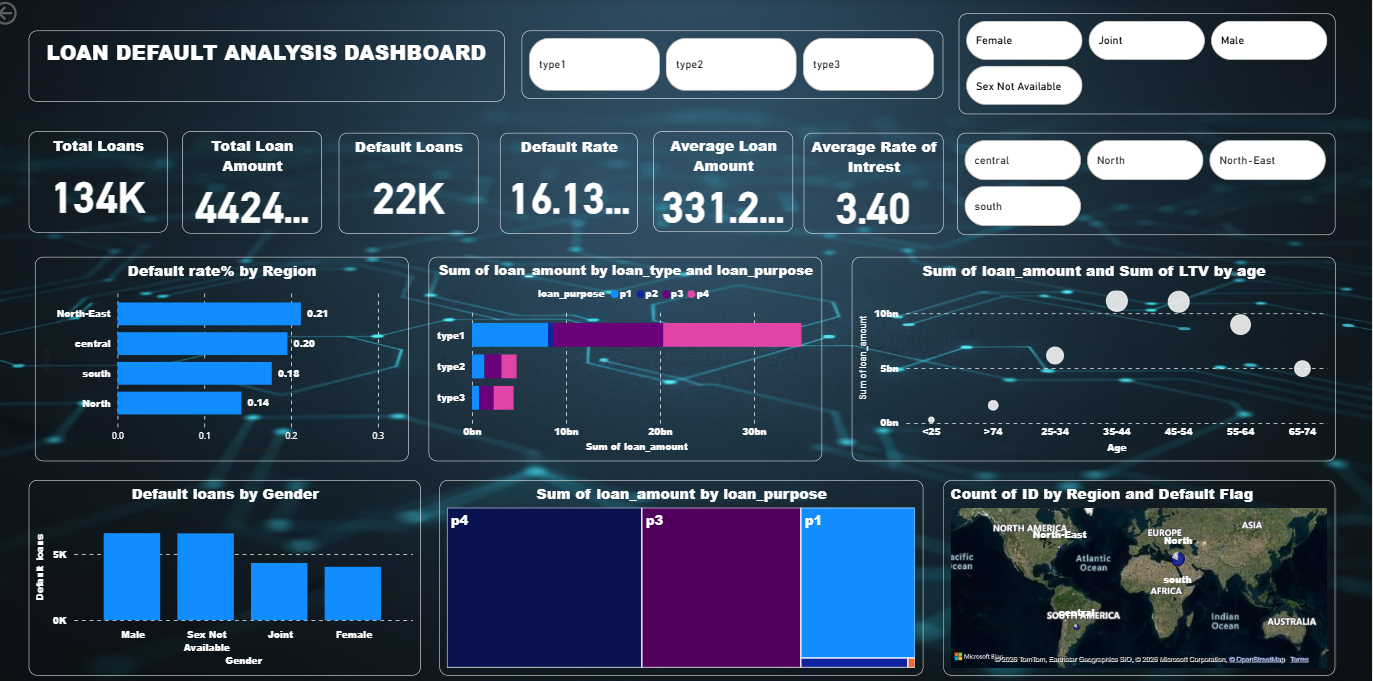

What the dashboard file says about the page in this screenshot:
{"tool":"powerbi","page":{"name":"Page 1","canvas":[1807,902],"ordinal":0},"visuals":[{"type":"card","title":"Total Loans ","fields":{"Values":["Loan_Default.Total loans"]},"box":[50.7,175,181,132],"z":0},{"type":"card","title":"Total Loan Amount","fields":{"Values":["Loan_Default.Total Loan amount"]},"box":[251.2,174.2,182.3,133.7],"z":1000},{"type":"card","title":"Default Loans","fields":{"Values":["Loan_Default.Default loans"]},"box":[455.7,176.2,182.3,131.7],"z":2000},{"type":"card","title":"Default Rate","fields":{"Values":["Loan_Default.Default rate %"]},"box":[666.4,176.2,180.3,131.7],"z":3000},{"type":"card","title":"Average Loan Amount","fields":{"Values":["Loan_Default.Average loan amount"]},"box":[866.9,174.2,182.3,131.7],"z":4000},{"type":"card","title":"Average Rate of Intrest","fields":{"Values":["Avg(Loan_Default.rate_of_interest)"]},"box":[1063.4,176.2,182.3,131.7],"z":5000},{"type":"actionButton","box":[0,0,100,40],"z":6000},{"type":"barChart","fields":{"Category":["Loan_Default.loan_type"],"Y":["Sum(Loan_Default.loan_amount)"],"Series":["Loan_Default.loan_purpose"]},"box":[573.2,338.3,514.5,267.4],"z":7000},{"type":"treemap","fields":{"Group":["Loan_Default.loan_purpose"],"Values":["Sum(Loan_Default.loan_amount)"]},"box":[587.4,629.9,632,255.2],"z":8000},{"type":"clusteredColumnChart","fields":{"Y":["Loan_Default.Default loans"],"Category":["Loan_Default.Gender"]},"box":[50.6,629.9,512.5,255.2],"z":9000},{"type":"barChart","fields":{"Y":["Loan_Default.Default rate%"],"Category":["Loan_Default.Region"]},"box":[58.7,338.3,488.2,267.4],"z":10000},{"type":"scatterChart","fields":{"X":["Loan_Default.age"],"Y":["Sum(Loan_Default.loan_amount)"],"Size":["Sum(Loan_Default.LTV)"]},"box":[1126.2,338.3,632,267.4],"z":11000},{"type":"advancedSlicerVisual","fields":{"Values":["Loan_Default.Region"]},"box":[1263.9,176.2,494.2,133.7],"z":12000},{"type":"textbox","box":[50.6,42.5,621.8,93.2],"z":13000},{"type":"advancedSlicerVisual","fields":{"Values":["Loan_Default.loan_type"]},"box":[694.8,42.5,550.9,89.1],"z":14000},{"type":"advancedSlicerVisual","fields":{"Values":["Loan_Default.Gender"]},"box":[1266,20.3,492.2,131.7],"z":15000},{"type":"map","fields":{"Category":["Loan_Default.Region"],"Series":["Loan_Default.Default Flag"],"Size":["CountNonNull(Loan_Default.ID)"]},"box":[1245.7,629.9,512.5,255.2],"z":16000}]}

Visuals, with their boxes in screenshot pixels (x1, y1, x2, y2), scaled from the page's 1807x902 canvas onto the 1373x681 screenshot:
"Total Loans " card: 39/132/176/232
"Total Loan Amount" card: 191/132/329/232
"Default Loans" card: 346/133/485/232
"Default Rate" card: 506/133/643/232
"Average Loan Amount" card: 659/132/797/231
"Average Rate of Intrest" card: 808/133/947/232
actionButton: 0/0/76/30
barChart - Loan_Default.loan_type x Sum(Loan_Default.loan_amount): 436/255/826/457
treemap - Loan_Default.loan_purpose x Sum(Loan_Default.loan_amount): 446/476/927/668
clusteredColumnChart - Loan_Default.Default loans x Loan_Default.Gender: 38/476/428/668
barChart - Loan_Default.Default rate% x Loan_Default.Region: 45/255/416/457
scatterChart - Loan_Default.age x Sum(Loan_Default.loan_amount): 856/255/1336/457
advancedSlicerVisual - Loan_Default.Region: 960/133/1336/234
textbox: 38/32/511/102
advancedSlicerVisual - Loan_Default.loan_type: 528/32/947/99
advancedSlicerVisual - Loan_Default.Gender: 962/15/1336/115
map - Loan_Default.Region x Loan_Default.Default Flag: 947/476/1336/668
